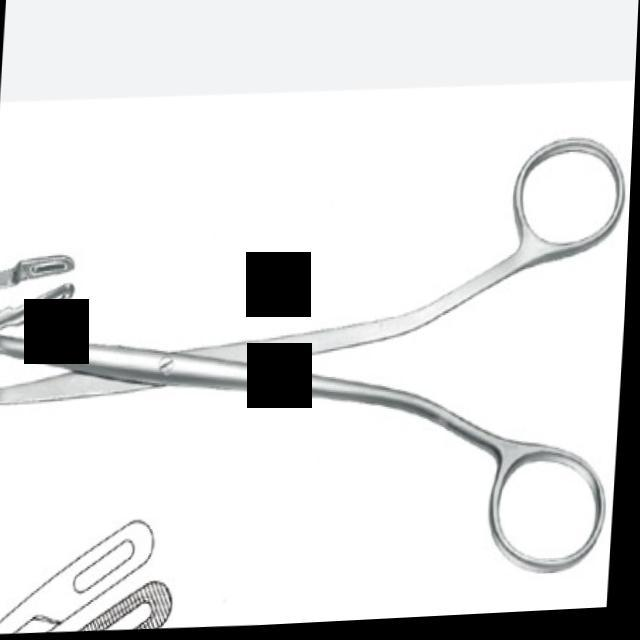Randall: (0, 153, 634, 602)
